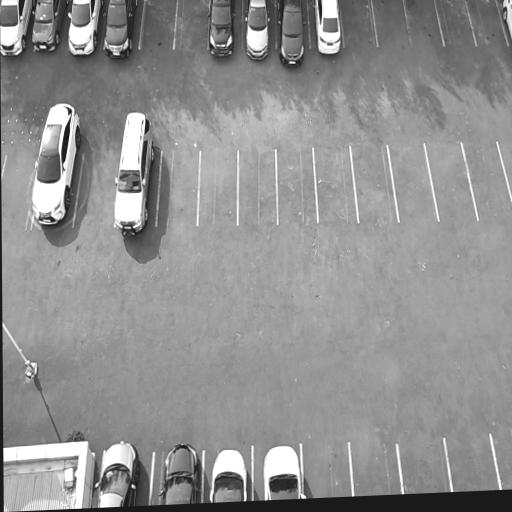Car: (28, 93, 85, 229), (112, 105, 158, 242), (93, 436, 143, 508), (158, 441, 202, 505), (262, 442, 304, 501), (208, 442, 248, 503), (64, 0, 104, 60), (101, 0, 139, 60), (30, 0, 69, 54), (277, 0, 306, 68), (0, 0, 33, 58), (312, 0, 344, 58), (245, 0, 274, 62), (208, 0, 236, 61), (499, 0, 512, 44)
Space Available: (425, 143, 478, 219), (388, 145, 439, 221), (462, 142, 512, 219), (351, 144, 398, 221), (313, 146, 358, 222), (156, 150, 201, 225), (73, 152, 118, 226), (444, 434, 501, 492), (276, 148, 318, 223), (396, 438, 451, 494), (301, 442, 353, 499), (198, 151, 238, 225), (238, 151, 278, 224), (349, 443, 403, 496), (2, 153, 38, 226), (466, 0, 508, 46), (138, 0, 178, 48), (435, 0, 476, 46), (404, 0, 444, 45), (372, 0, 411, 45), (340, 0, 378, 46), (174, 0, 210, 47), (490, 432, 512, 490)
